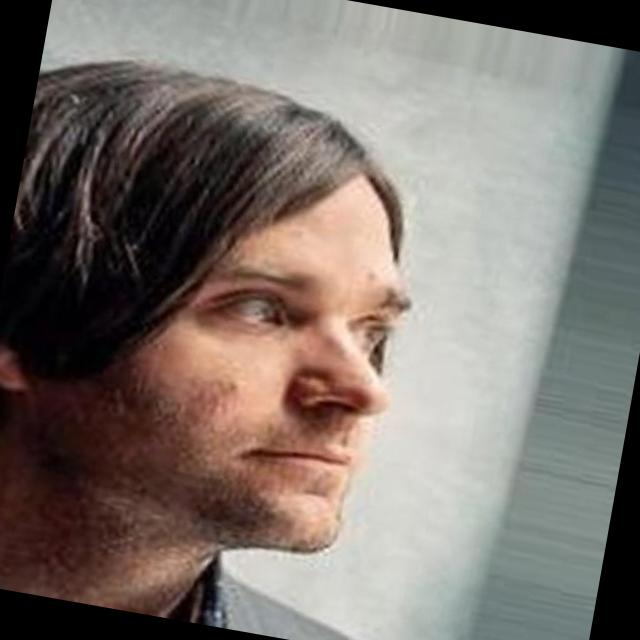bareface: (27, 66, 445, 562)
